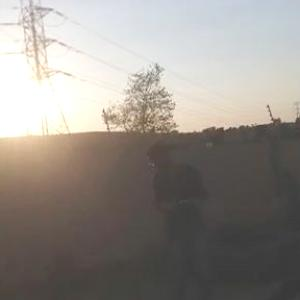follow: (143, 135, 210, 299)
